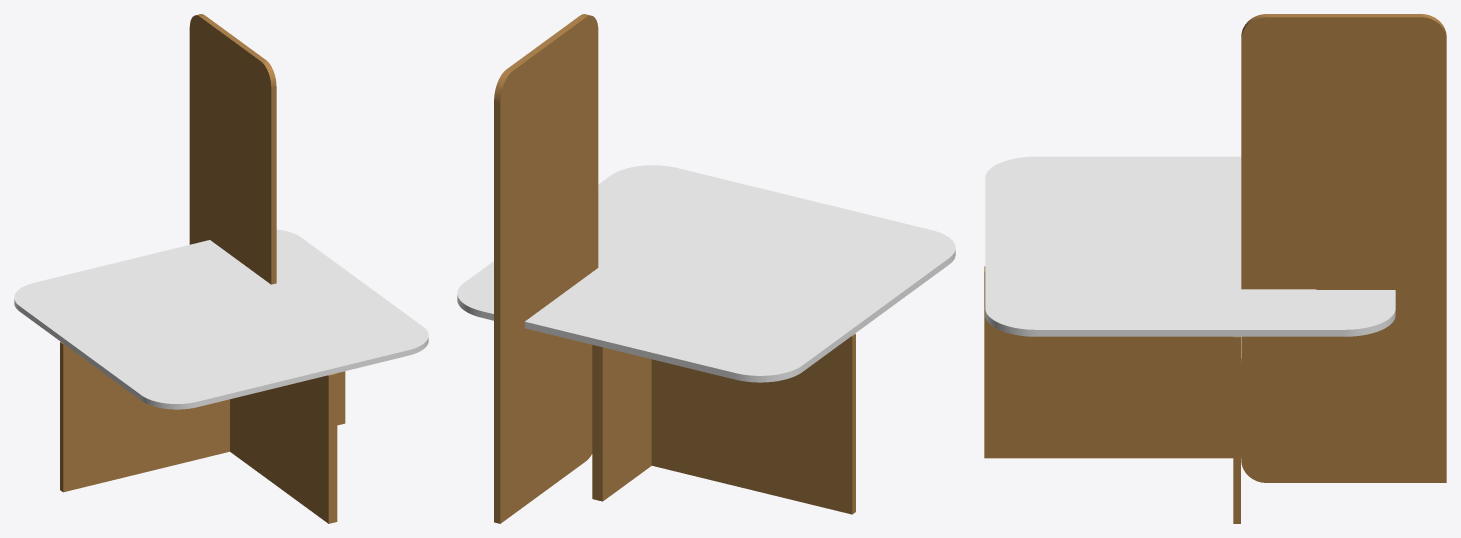
3 renders of one model, left to right at view 1: azimuth 30°, elevation 25°; view 2: azimuth 150°, elevation 25°; view 3: azimuth 270°, elevation 25°, orthographic. The views are drawn at different scales.
Visible parts, largest first — view 1: Object.012; view 2: Object.012; view 3: Object.012.
Part boxes in pixels (x1,y1,x2,y2): Object.012: (14,14,428,523); Object.012: (457,14,955,523); Object.012: (984,14,1446,523).
Size of the model in its own units: 0.8042 by 1.01 by 0.9051.
